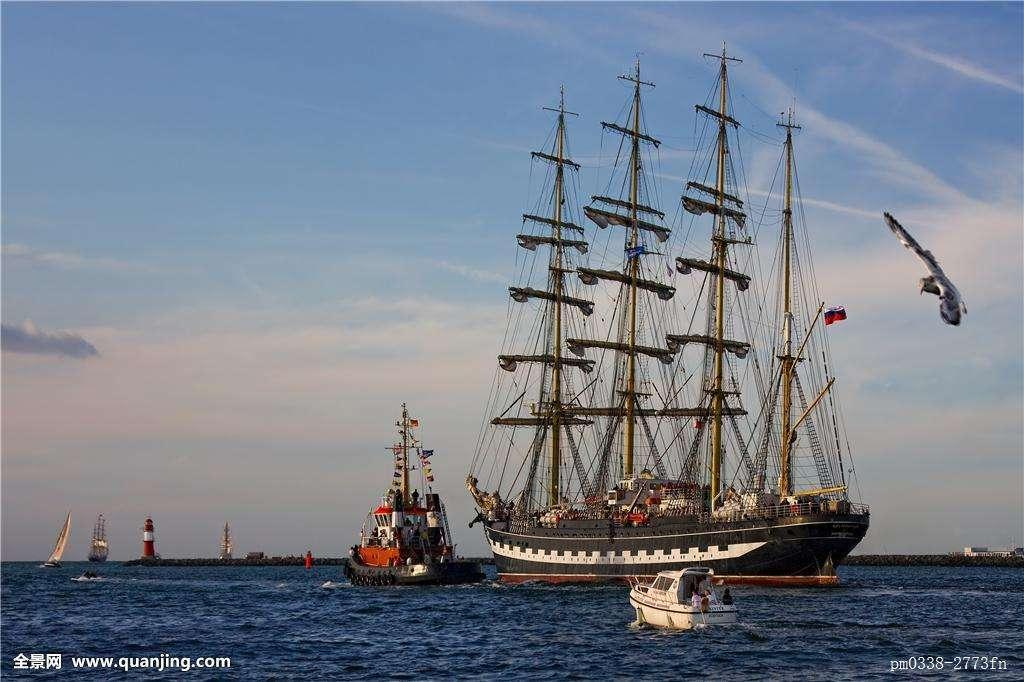bird: (881, 205, 980, 325)
fanchuan: (468, 38, 877, 583), (36, 503, 78, 569), (84, 508, 121, 568), (215, 518, 241, 569)
otherboat: (326, 413, 479, 598), (613, 561, 750, 634)
